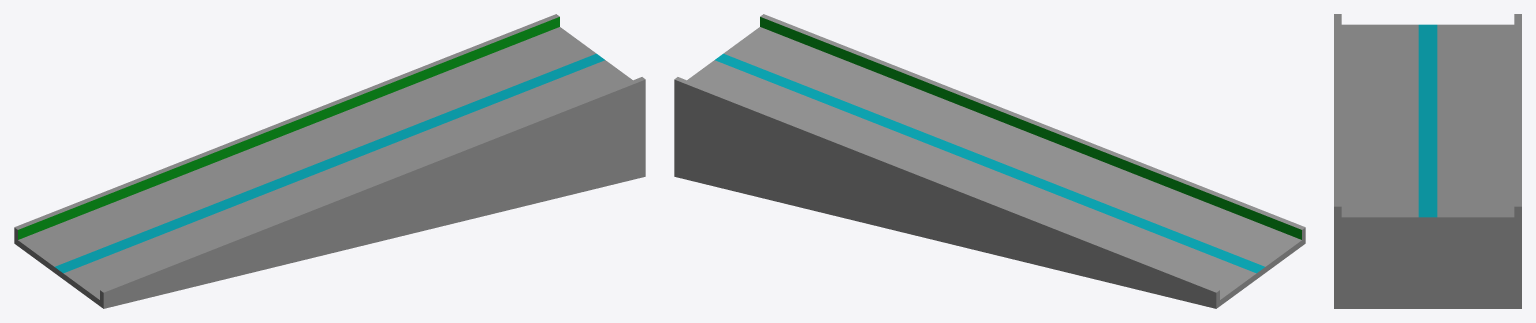
Rendered from mesh_road_ramp_20.FBX.
3 renders of one model, left to right at view 1: azimuth 30°, elevation 25°; view 2: azimuth 150°, elevation 25°; view 3: azimuth 270°, elevation 25°, orthographic. The views are drawn at different scales.
Parts seen in each view (by area): view 1: Box001; view 2: Box001; view 3: Box001.
Part boxes in pixels (<box>): Box001: <box>14,14,645,308</box>; Box001: <box>674,14,1305,308</box>; Box001: <box>1334,14,1521,308</box>.
Size of the model in its own units: 140 by 24 by 40.
